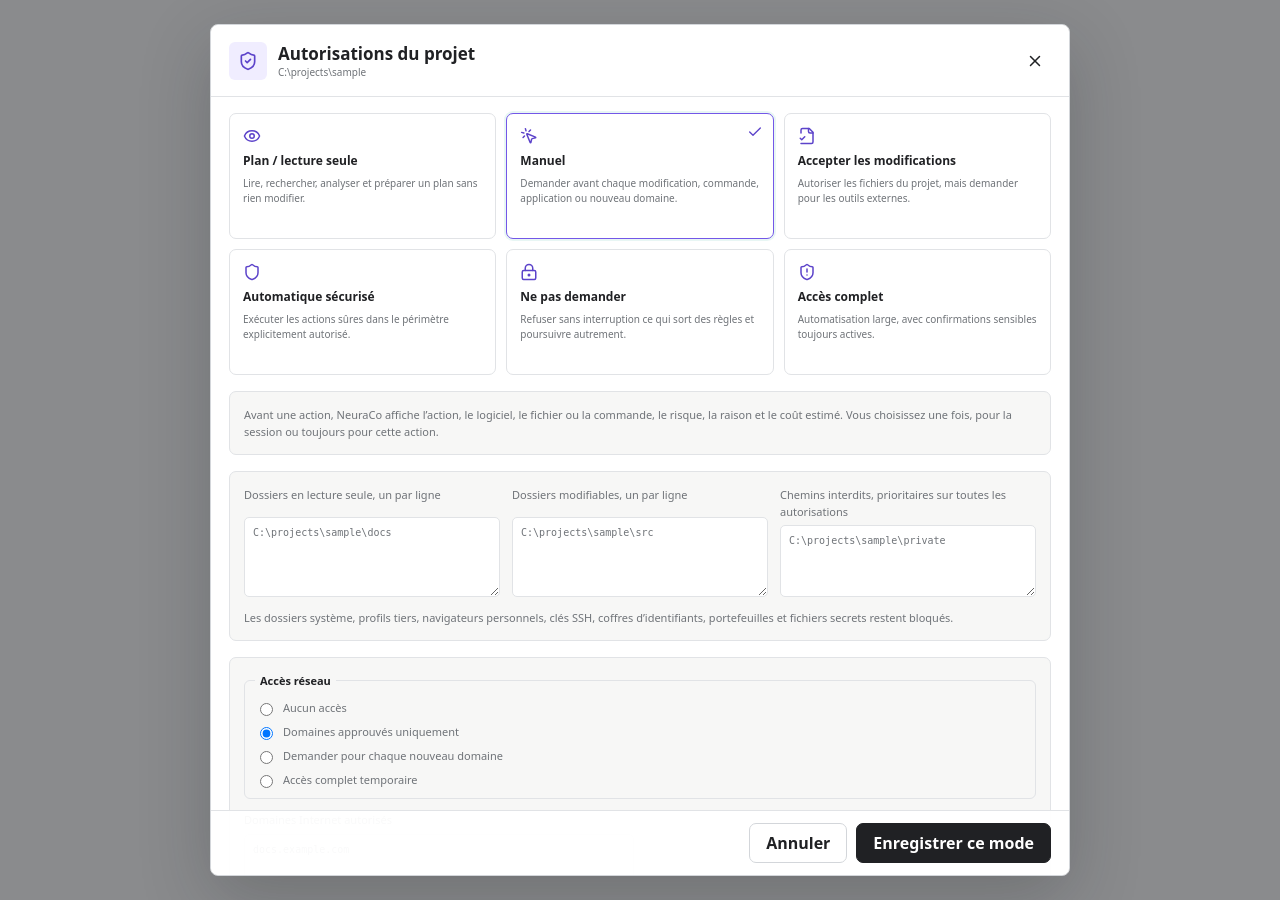
Test case: ProjectPermissionsDialog › requires both full-access confirmations before enabling activation
Step 1. Click the button that starts with "Accès complet" → (917, 312), box 784,249 -> 1051,375
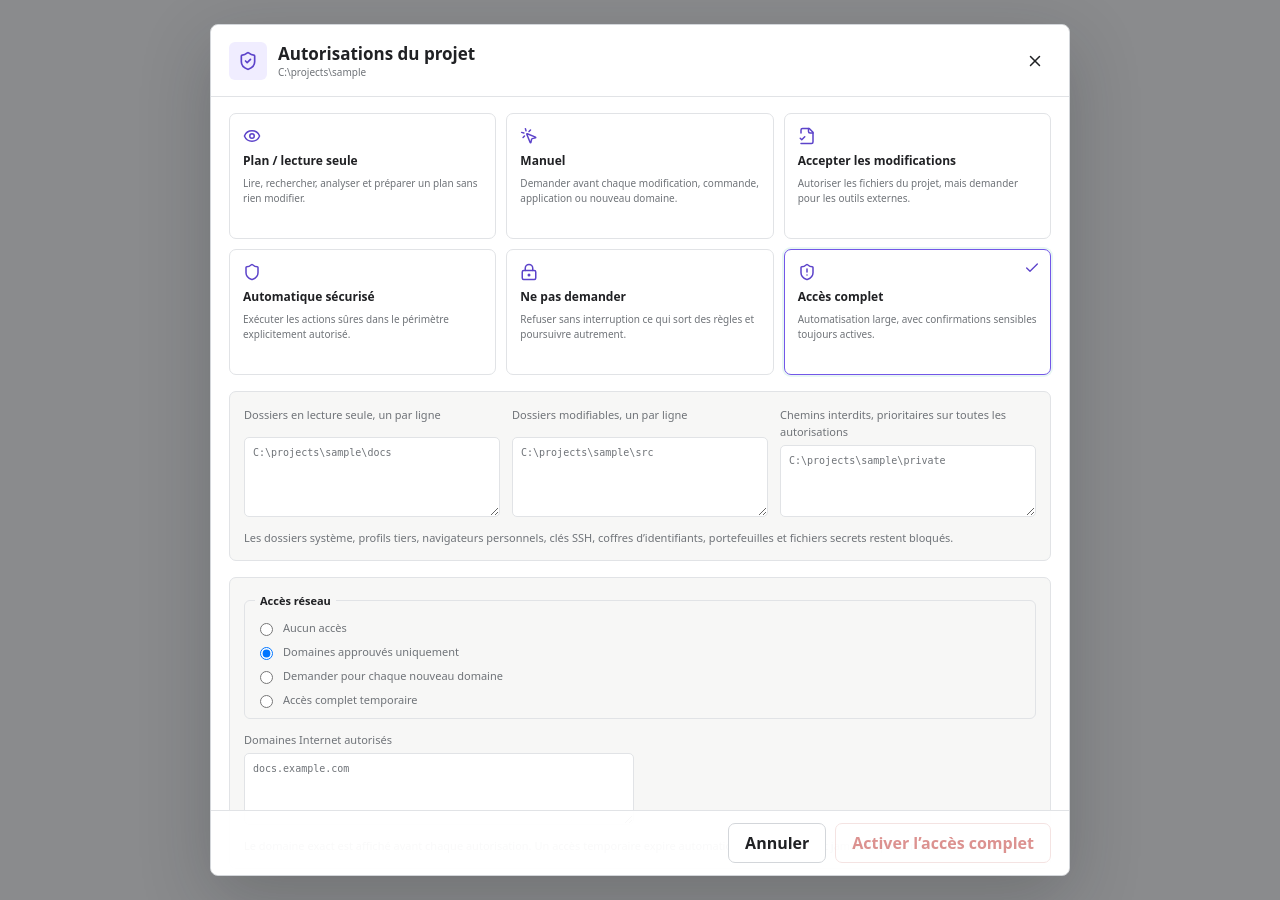
Expected: the button "Activer l’accès complet" is disabled, 835,823 -> 1051,863
